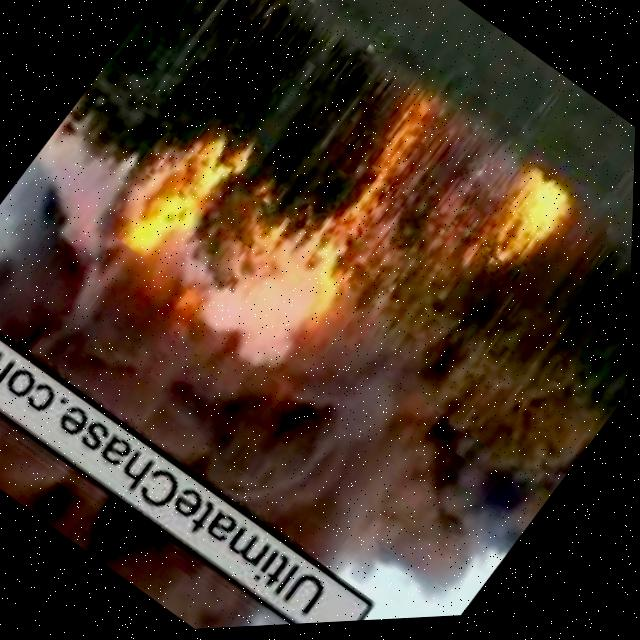Fire: (272, 76, 476, 311), (88, 99, 264, 292), (465, 176, 577, 294)
Smoke: (0, 127, 556, 640), (0, 324, 322, 640)
